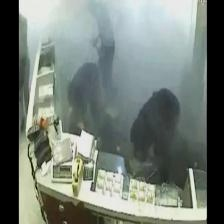smoke: (42, 4, 186, 142)
